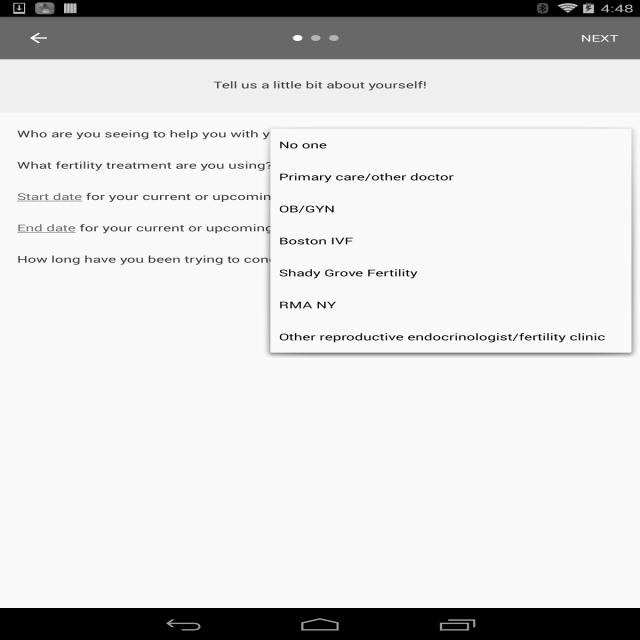ImageButton: (21, 26, 74, 50)
TextView: (269, 326, 620, 348), (10, 123, 258, 147), (5, 246, 268, 268), (12, 186, 263, 208), (199, 74, 454, 92), (274, 233, 361, 250), (274, 134, 333, 152), (577, 29, 627, 48)
